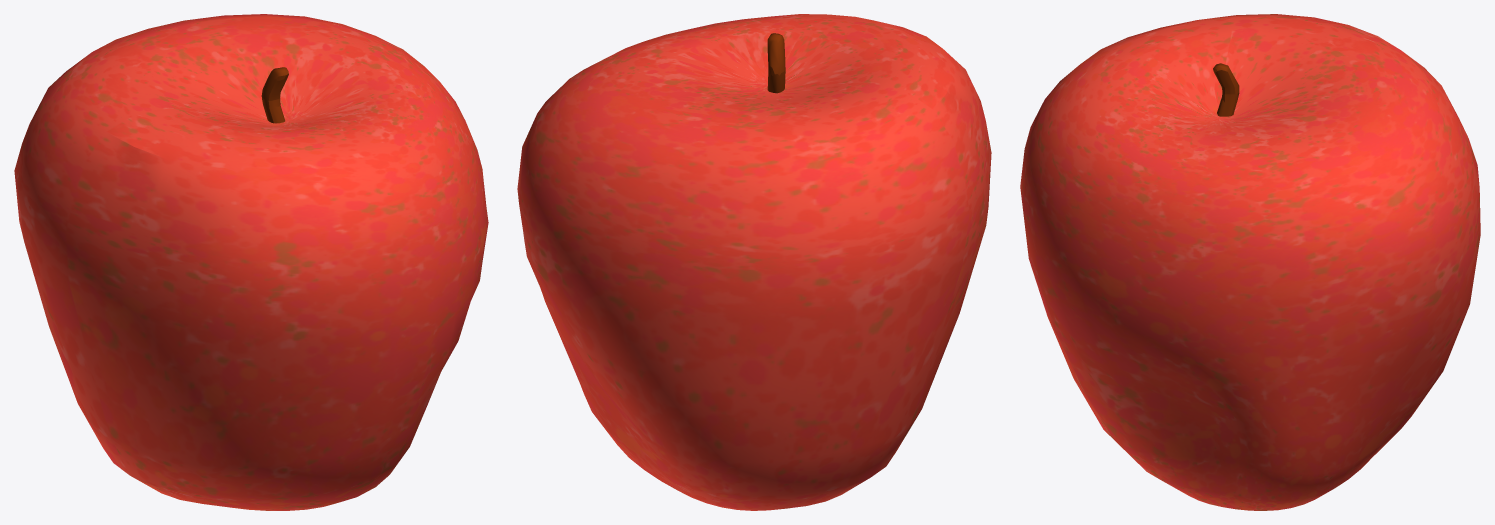
The model's file is apple.fbx.
3 views of the same model, side by side, from view 1: azimuth 30°, elevation 25°; view 2: azimuth 150°, elevation 25°; view 3: azimuth 270°, elevation 25° (orthographic). The views are drawn at different scales.
Parts seen in each view (by area): view 1: Sphere, Cube.028; view 2: Sphere, Cube.028; view 3: Sphere, Cube.028.
Part boxes in pixels (<box>): Sphere: <box>14,14,488,510</box>; Cube.028: <box>261,67,288,123</box>; Sphere: <box>517,14,991,510</box>; Cube.028: <box>767,33,785,93</box>; Sphere: <box>1020,14,1480,510</box>; Cube.028: <box>1213,63,1239,116</box>.
Size of the model in its own units: 181 by 187 by 186.
